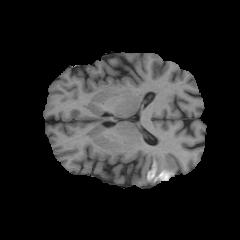glioma: (143, 153, 181, 185)
